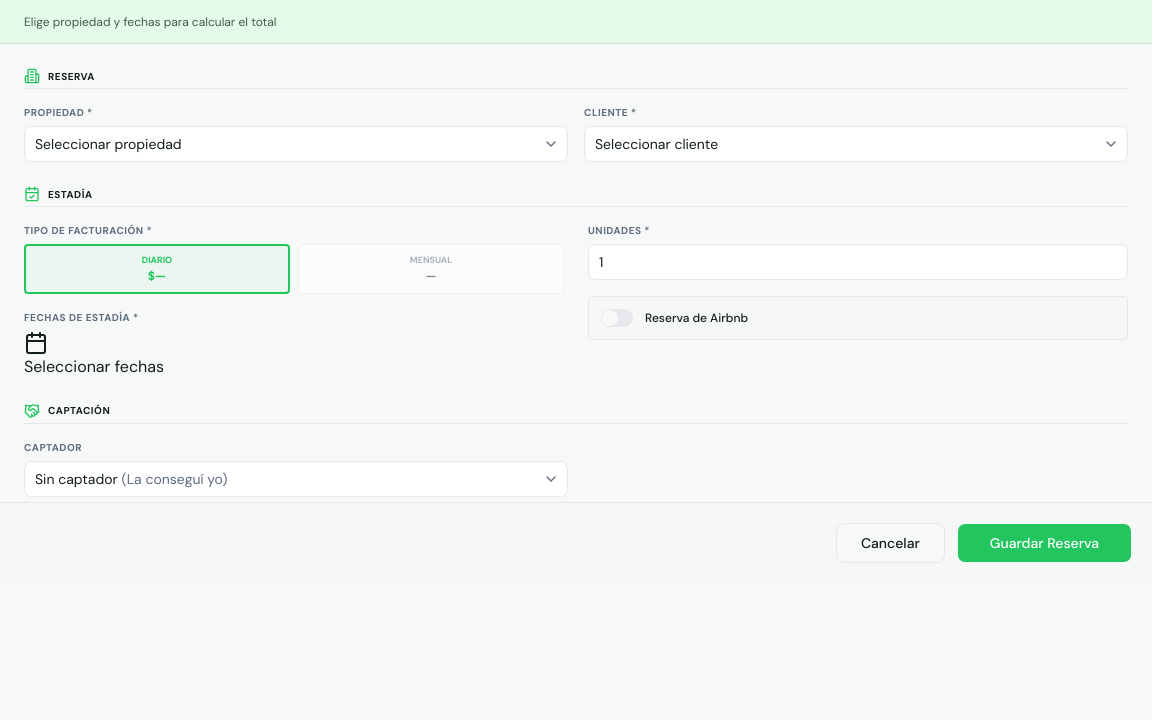
Test case: ReservationForm - Creación rápida de cliente › muestra "Crear nuevo cliente..." en el footer del combobox
Click the button "Seleccionar cliente".
click(657, 144)  # box [584,126,1128,162]
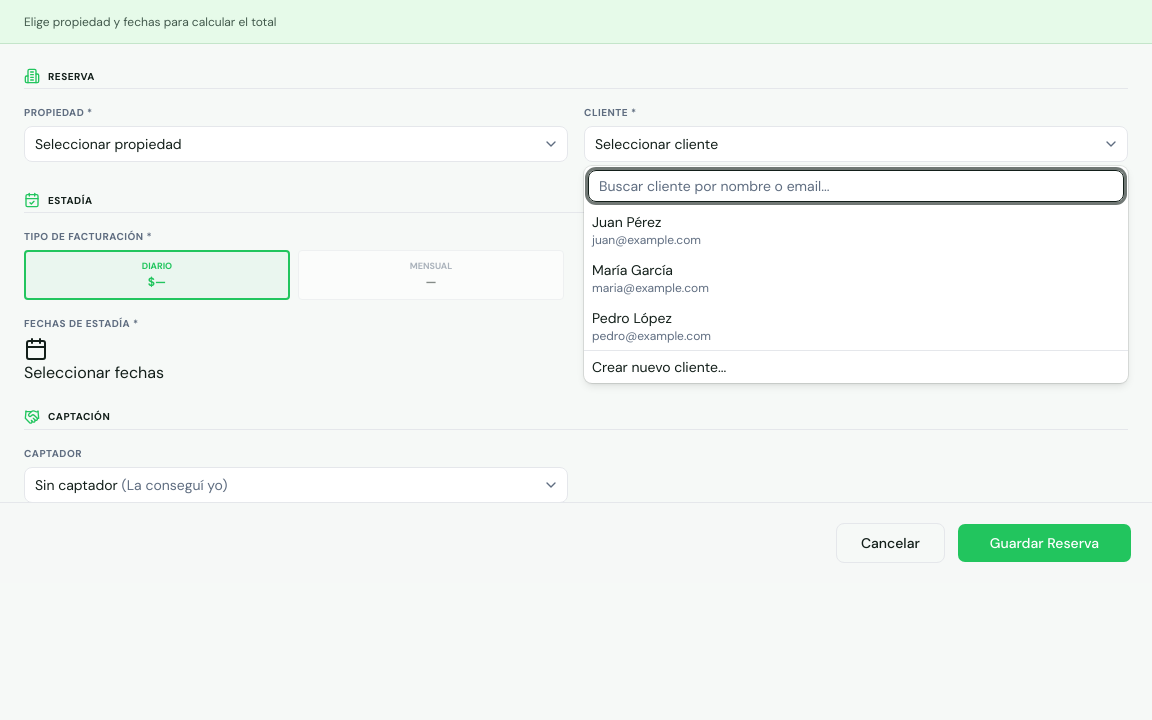
Expected: the button "Crear nuevo cliente..." is shown, [584,351,1128,383]
